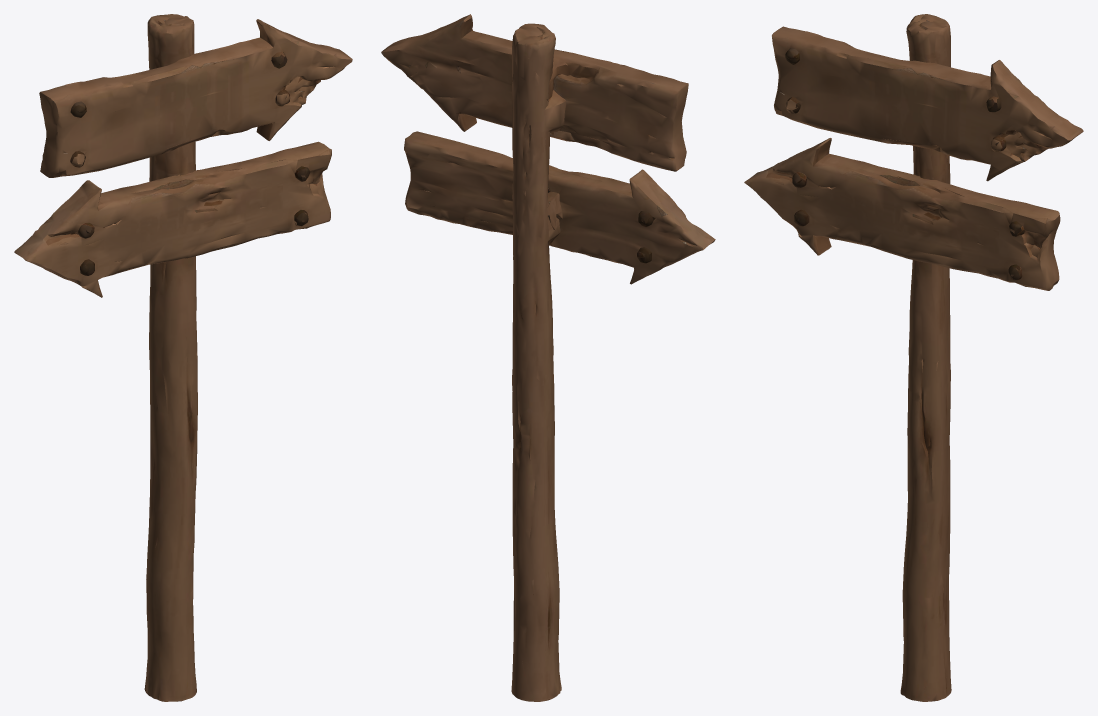
The model's file is Signpost.glb.
3 views of the same model, side by side, from view 1: azimuth 30°, elevation 25°; view 2: azimuth 150°, elevation 25°; view 3: azimuth 330°, elevation 25° (orthographic).
Parts seen in each view (by area): view 1: Signpost; view 2: Signpost; view 3: Signpost.
Boxes of the visible parts, x1,y1,x2,y2 form: Signpost: (14,14,352,701); Signpost: (381,14,715,701); Signpost: (744,14,1083,701).
Bounding box in the file's own units: 1.22 × 2.4 × 0.2483.
1 material, 1 textured.
